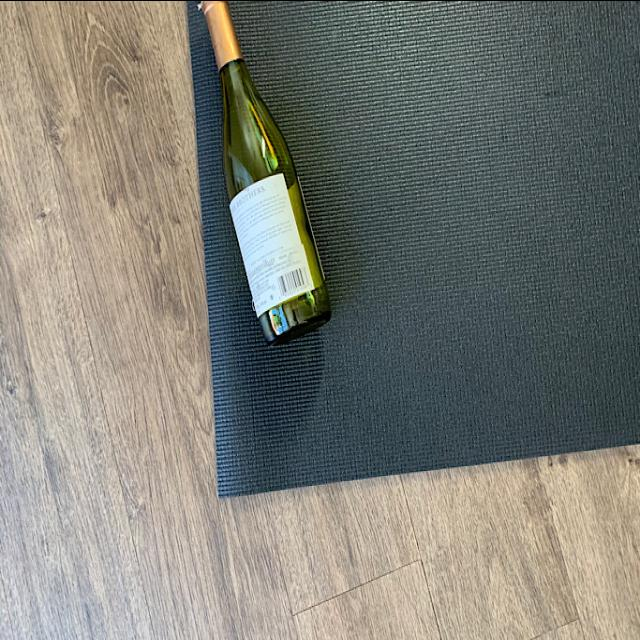Glass Bottle: (196, 0, 342, 355)
